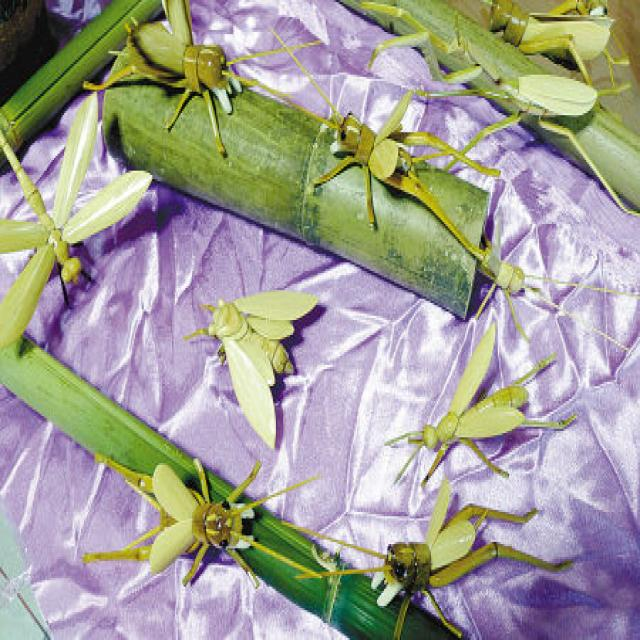ZhaMeng: (301, 80, 536, 292)
